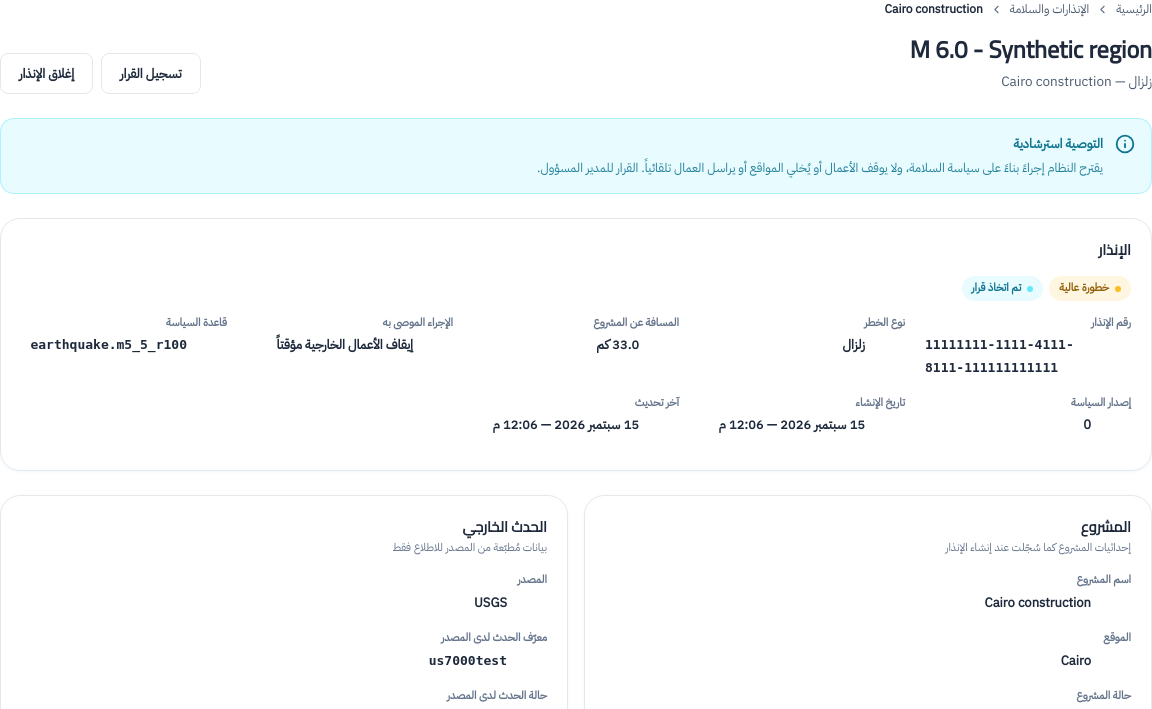
Test: SafetyAlertDetailPage › closes with optional notes after confirmation
Click the button "إغلاق الإنذار" at {"x": 46, "y": 74}, box top-left (0, 53), bottom-right (93, 94)
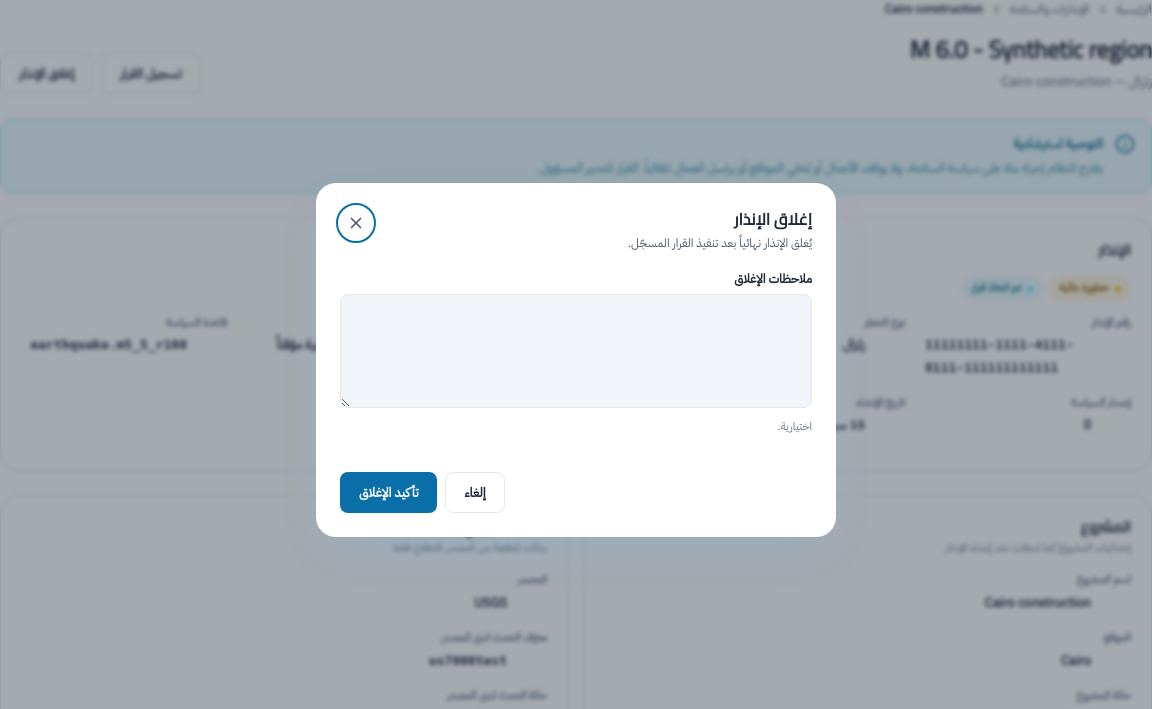
Click the button "تأكيد الإغلاق" at {"x": 389, "y": 492}, box top-left (340, 472), bottom-right (438, 513)
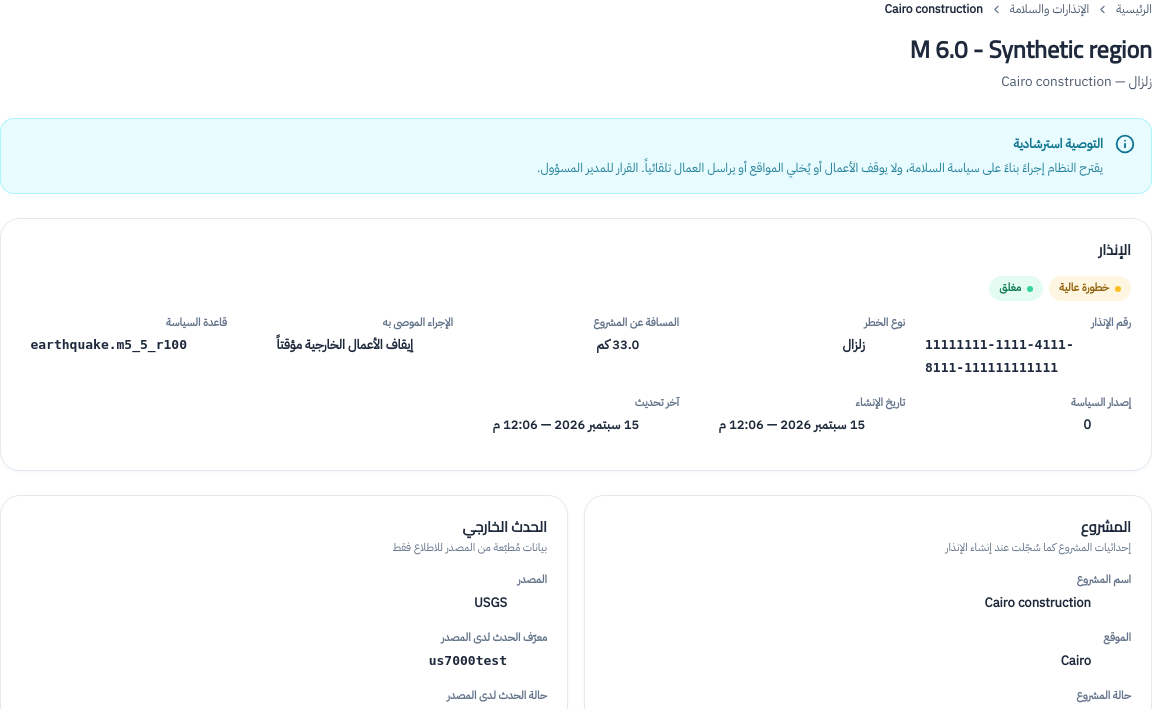
Now the text "مغلق" is shown, box top-left (989, 276), bottom-right (1043, 301)
